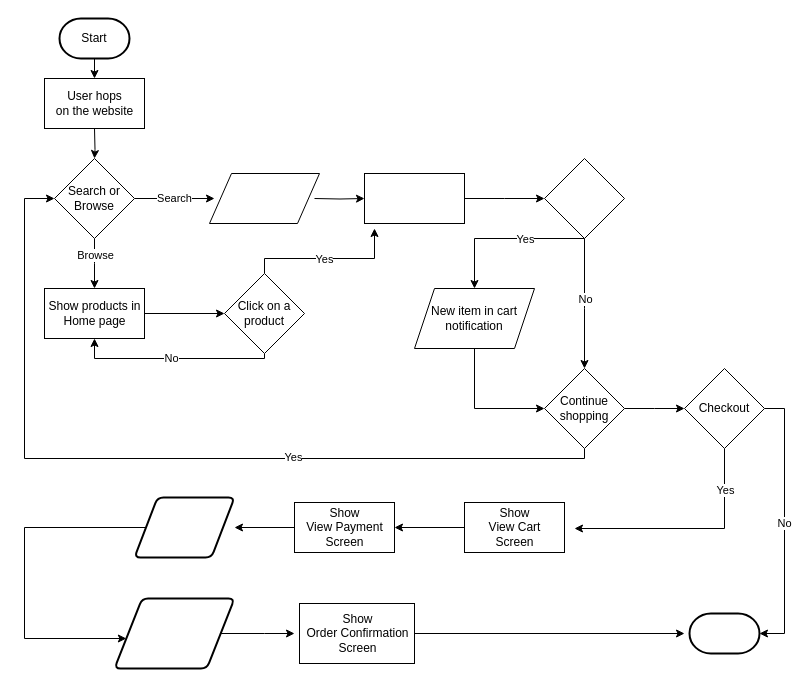
The diagram is 810 pixels wide and 686 high, and some of its shapes have lost their labels. The centre of each missing label's shape, as x and y in pixels:
"Add to cart" belongs at (584,198).
"End" belongs at (724,633).
"Show specific product page" belongs at (414,198).
"User input search query" belongs at (264,198).
"User inputs payment data" belongs at (184,527).
"User receives email confimration" belongs at (174,633).
